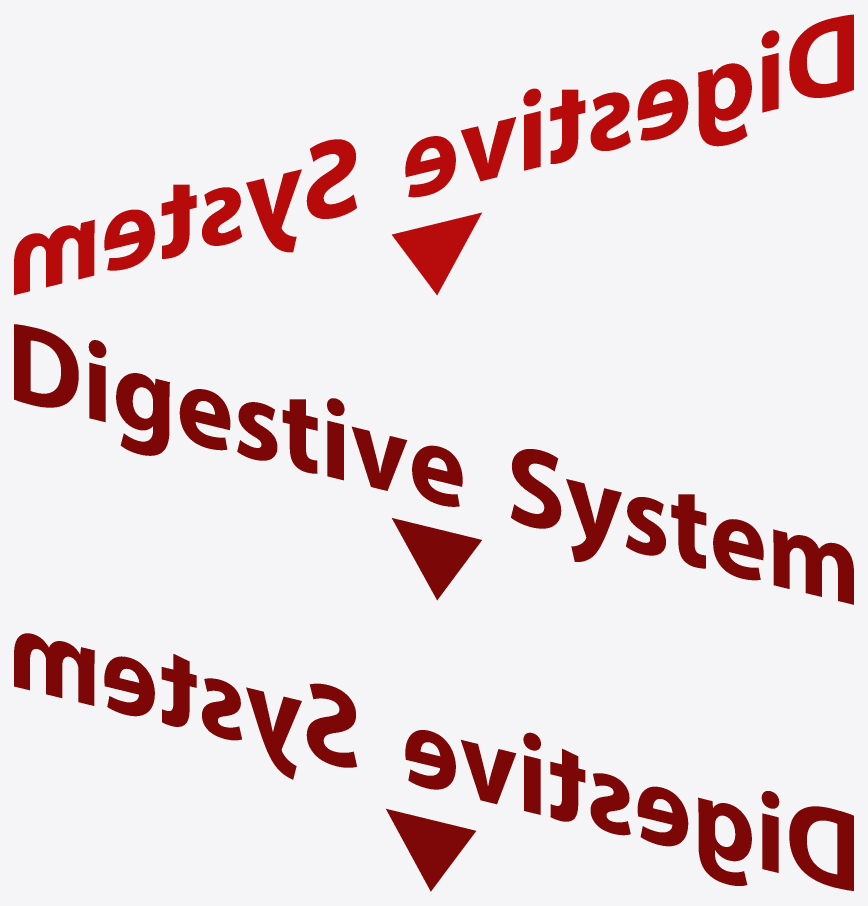
File: Digestive System FBX.FBX
3 renders of one model, top to bottom at view 1: azimuth 30°, elevation 25°; view 2: azimuth 150°, elevation 25°; view 3: azimuth 330°, elevation 25°, orthographic.
Parts seen in each view (by area): view 1: Digestive System_TXT, Arrow; view 2: Digestive System_TXT, Arrow; view 3: Digestive System_TXT, Arrow.
Part boxes in pixels (left/top/right/bottom): Digestive System_TXT: left=14, top=14, right=853, bottom=294; Arrow: left=392, top=212, right=481, bottom=295; Digestive System_TXT: left=14, top=324, right=853, bottom=604; Arrow: left=392, top=518, right=481, bottom=600; Digestive System_TXT: left=14, top=633, right=853, bottom=890; Arrow: left=386, top=809, right=475, bottom=891.
Size of the model in its own units: 187 by 38.31 by 1.23.
